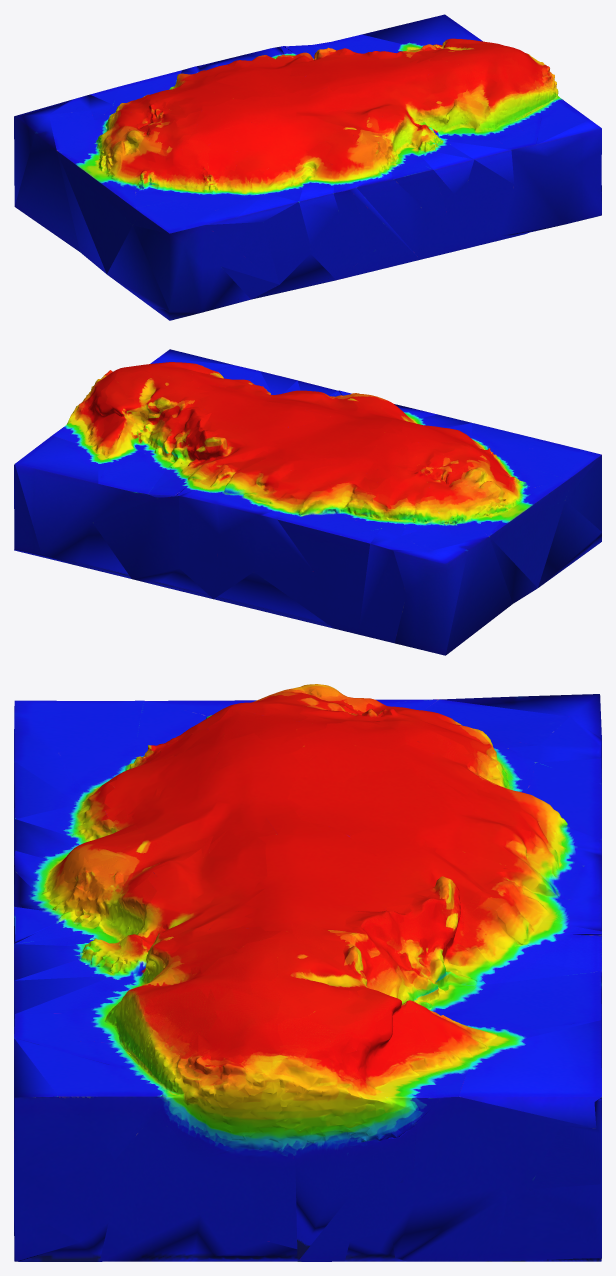
The model's file is пласт_1_ггдм.glb.
3 views of the same model, one above another, from view 1: azimuth 30°, elevation 25°; view 2: azimuth 150°, elevation 25°; view 3: azimuth 270°, elevation 25° (orthographic). The views are drawn at different scales.
Size of the model in its own units: 1.9 by 0.541 by 1.16.
1 material, 1 textured.
